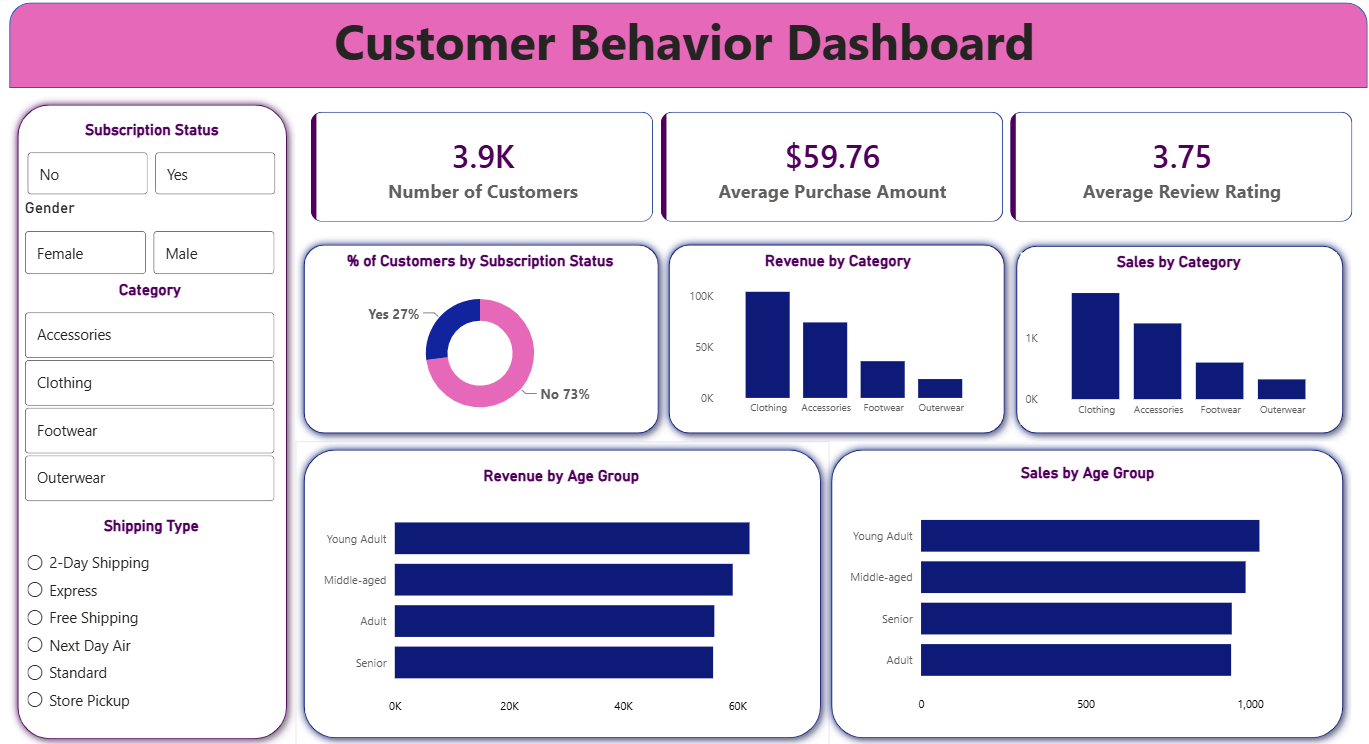

Layout of this report page (visuals, bound fields, positions):
{"tool":"powerbi","page":{"name":"Page 1","canvas":[1500,820],"ordinal":0},"visuals":[{"type":"shape","box":[324.3,487.1,581.7,332.6],"z":0},{"type":"cardVisual","fields":{"Data":["customer_behavior customer.Number of Customers","customer_behavior customer.Average Purchase Amount","customer_behavior customer.Average Review Rating"]},"box":[324.3,109.9,1169.1,154.5],"z":1000},{"type":"shape","box":[12.5,8.4,1480.8,93.2],"z":2000},{"type":"textbox","box":[22.3,8.4,1453,93.2],"z":3000},{"type":"shape","box":[324.3,263,405,224.1],"z":4000},{"type":"donutChart","title":"% of Customers by Subscription Status","fields":{"Category":["customer_behavior customer.subscription_status"],"Y":["CountNonNull(customer_behavior customer.customer_id)"]},"box":[346.5,279.7,359.1,192.1],"z":5000},{"type":"shape","box":[722.3,263,384.1,224.1],"z":6000},{"type":"shape","box":[1100.9,264.4,374.4,222.7],"z":7000},{"type":"clusteredColumnChart","title":"Revenue by Category","fields":{"Category":["customer_behavior customer.category"],"Y":["Sum(customer_behavior customer.purchase_amount)"]},"box":[748.7,279.7,335.4,187.9],"z":8000},{"type":"clusteredColumnChart","title":"Sales by Category","fields":{"Category":["customer_behavior customer.category"],"Y":["CountNonNull(customer_behavior customer.customer_id)"]},"box":[1114.8,281.1,345.1,187.9],"z":9000},{"type":"shape","box":[12.5,109.9,311.7,709.8],"z":10000},{"type":"advancedSlicerVisual","title":"Subscription Status","fields":{"Values":["customer_behavior customer.subscription_status"]},"box":[27.8,136.4,281.1,86.3],"z":11000},{"type":"advancedSlicerVisual","title":"Gender","fields":{"Values":["customer_behavior customer.gender"]},"box":[25.1,222.7,283.9,87.7],"z":12000},{"type":"advancedSlicerVisual","title":"Category","fields":{"Values":["customer_behavior customer.category"]},"box":[25.1,310.4,282.5,246.3],"z":13000},{"type":"listSlicer","title":"Shipping Type","fields":{"Values":["customer_behavior customer.shipping_type"]},"box":[26.4,567.8,282.5,224.1],"z":14000},{"type":"clusteredBarChart","title":"Revenue by Age Group","fields":{"Y":["Sum(customer_behavior customer.purchase_amount)"],"Category":["customer_behavior customer.age_group"]},"box":[345.1,513.5,538.6,279.7],"z":15000},{"type":"shape","box":[899.1,487.1,576.2,332.6],"z":16000},{"type":"clusteredBarChart","title":"Sales by Age Group","fields":{"Category":["customer_behavior customer.age_group"],"Y":["CountNonNull(customer_behavior customer.customer_id)"]},"box":[918.5,510.8,538.6,279.7],"z":17000}]}

Visuals, with their boxes in screenshot pixels (x1, y1, x2, y2), scaled from the page's 1500x820 canvas onto the 1369x744 screenshot:
shape: [296,442,827,743]
cardVisual - customer_behavior customer.Number of Customers x customer_behavior customer.Average Purchase Amount: [296,100,1363,240]
shape: [11,8,1363,92]
textbox: [20,8,1346,92]
shape: [296,239,666,442]
"% of Customers by Subscription Status" donutChart: [316,254,644,428]
shape: [659,239,1010,442]
shape: [1005,240,1346,442]
"Revenue by Category" clusteredColumnChart: [683,254,989,424]
"Sales by Category" clusteredColumnChart: [1017,255,1332,426]
shape: [11,100,296,743]
"Subscription Status" advancedSlicerVisual: [25,124,282,202]
"Gender" advancedSlicerVisual: [23,202,282,282]
"Category" advancedSlicerVisual: [23,282,281,505]
"Shipping Type" listSlicer: [24,515,282,719]
"Revenue by Age Group" clusteredBarChart: [315,466,807,720]
shape: [821,442,1346,743]
"Sales by Age Group" clusteredBarChart: [838,463,1330,717]
